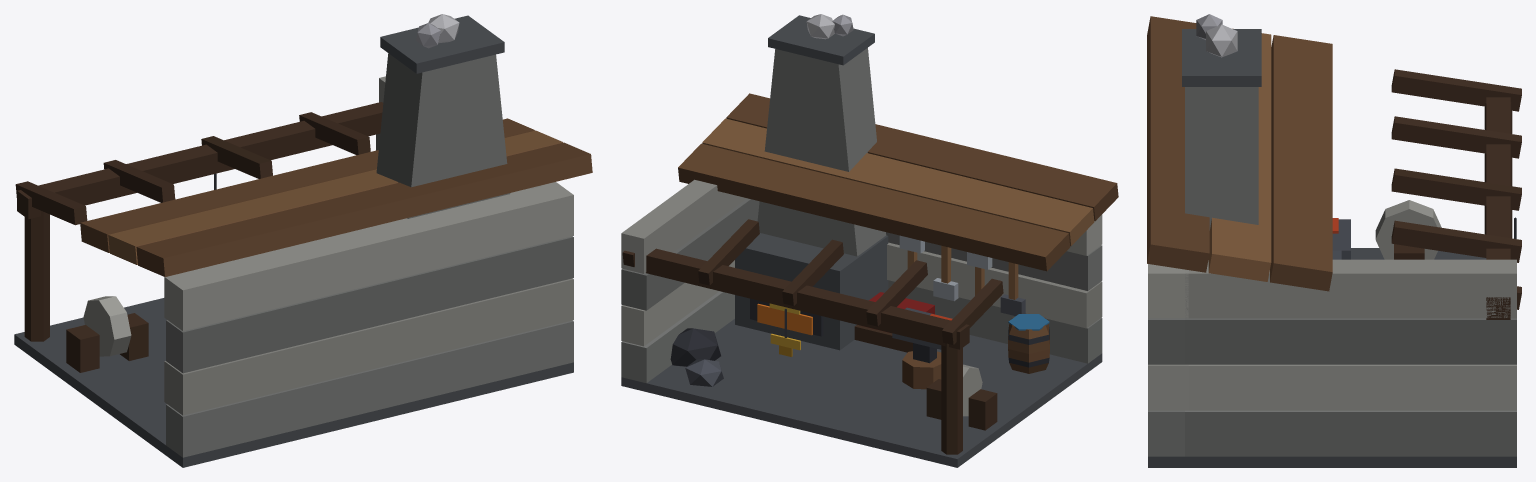
File: Decor_VikingLonghouse_Smithy.fbx
3 views of the same model, side by side, from view 1: azimuth 30°, elevation 25°; view 2: azimuth 150°, elevation 25°; view 3: azimuth 270°, elevation 25° (orthographic). The views are drawn at different scales.
Parts seen in each view (by area): view 1: Smithy_Body; view 2: Smithy_Body; view 3: Smithy_Body.
Part boxes in pixels (x1,y1,x2,y2): Smithy_Body: [14, 14, 592, 467]; Smithy_Body: [621, 14, 1118, 467]; Smithy_Body: [1147, 14, 1521, 467].
Bounding box in the file's own units: 17.5 × 14 × 12.15.
